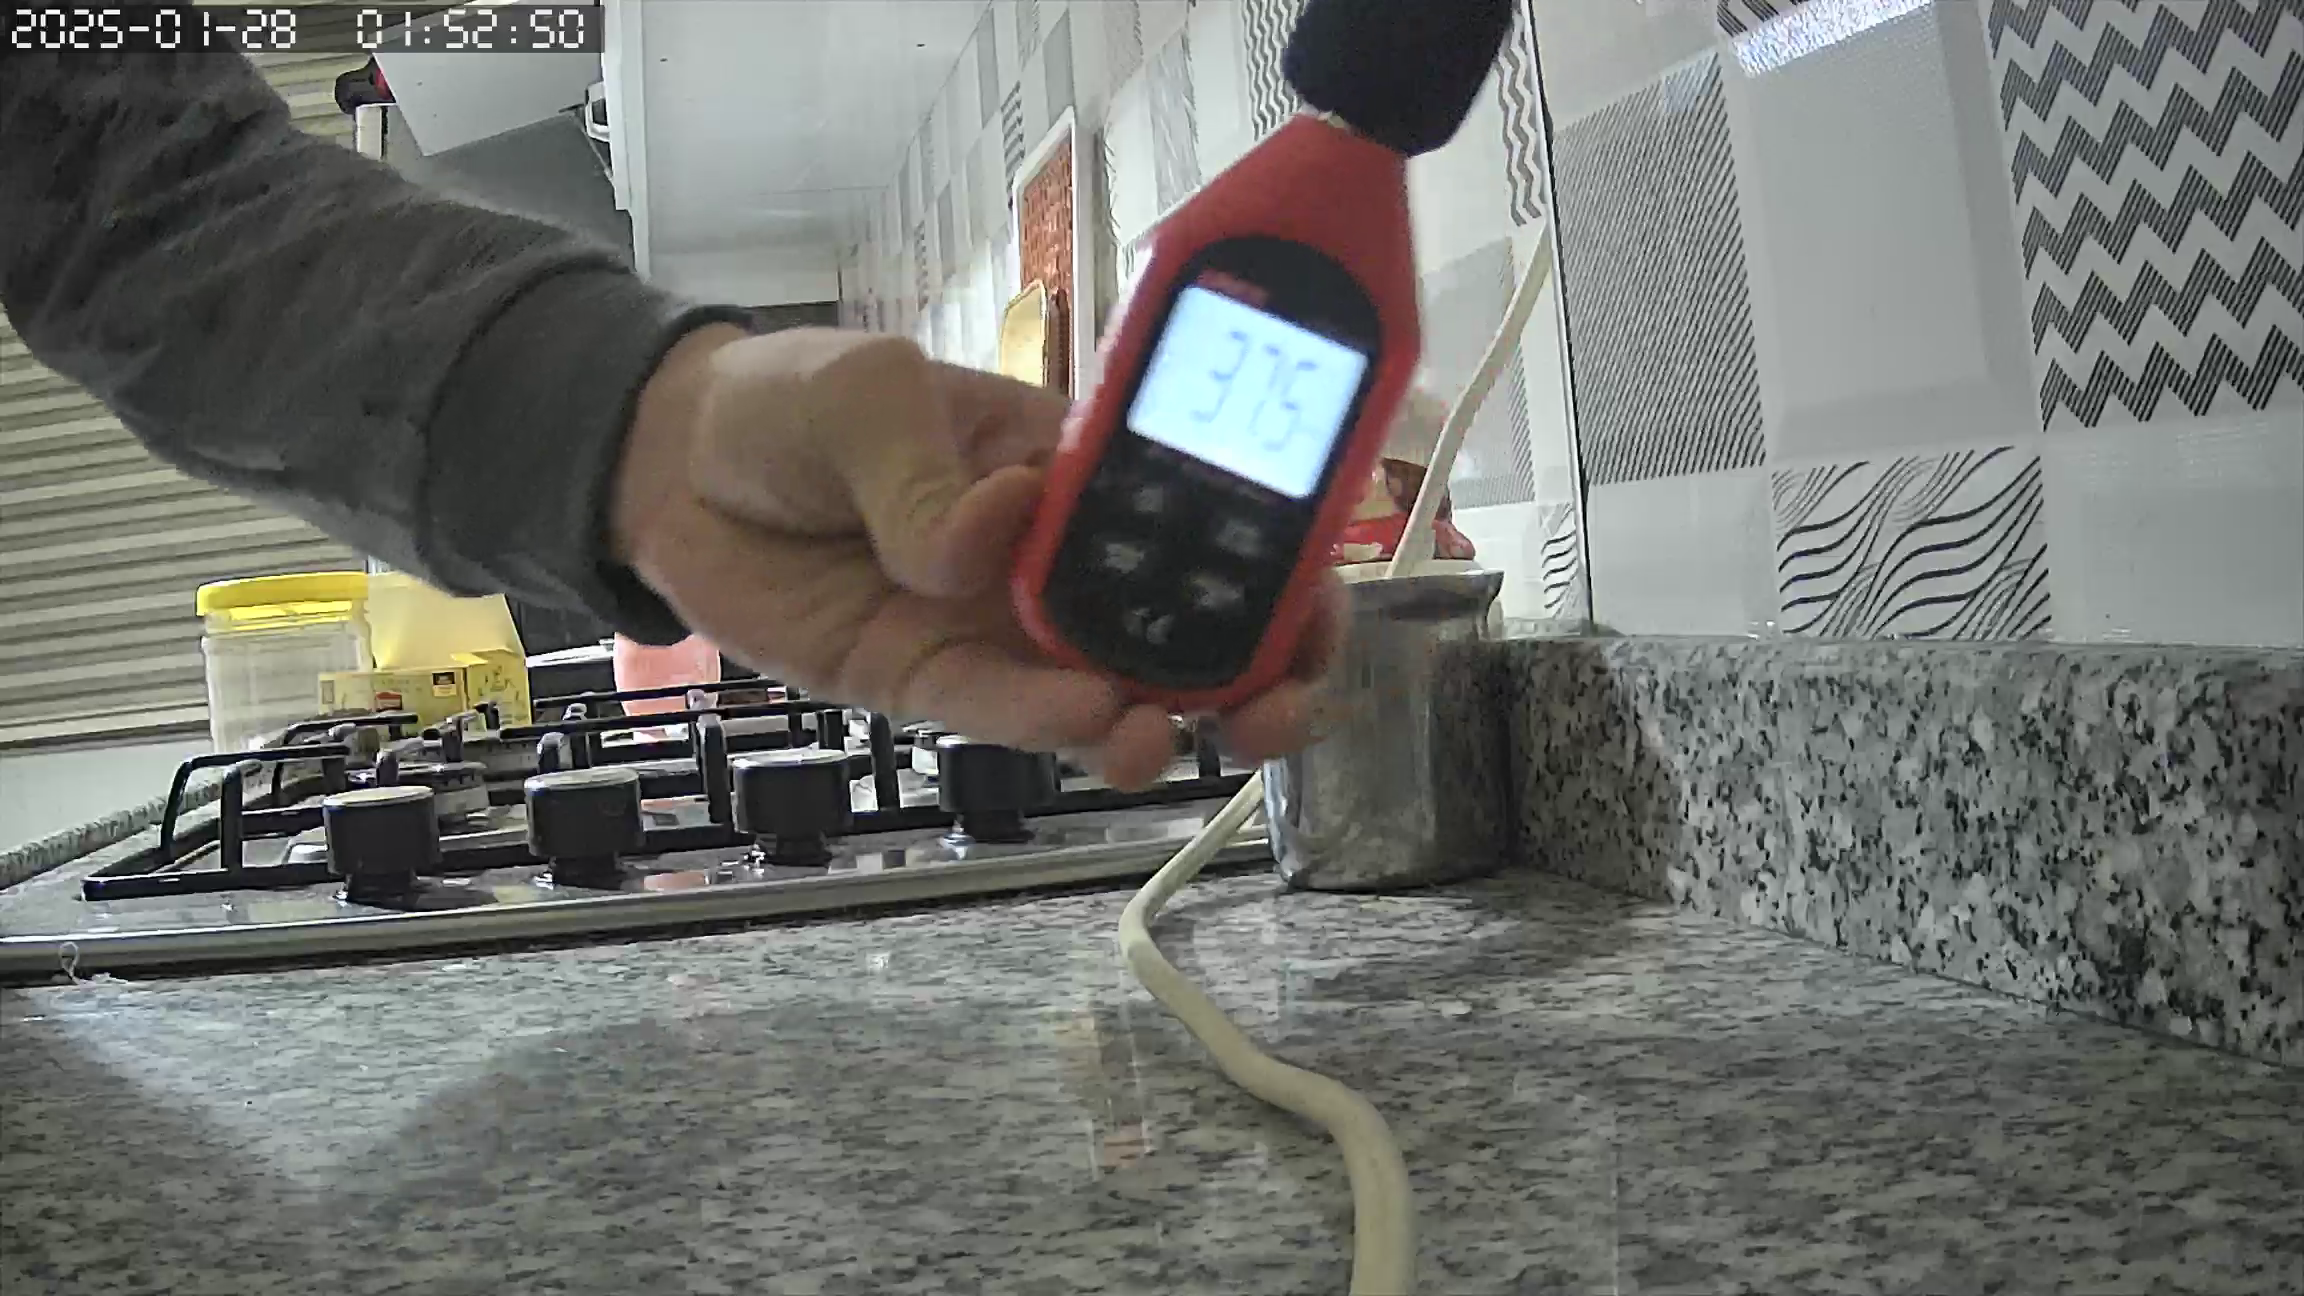screen: (1120, 285, 1366, 500)
